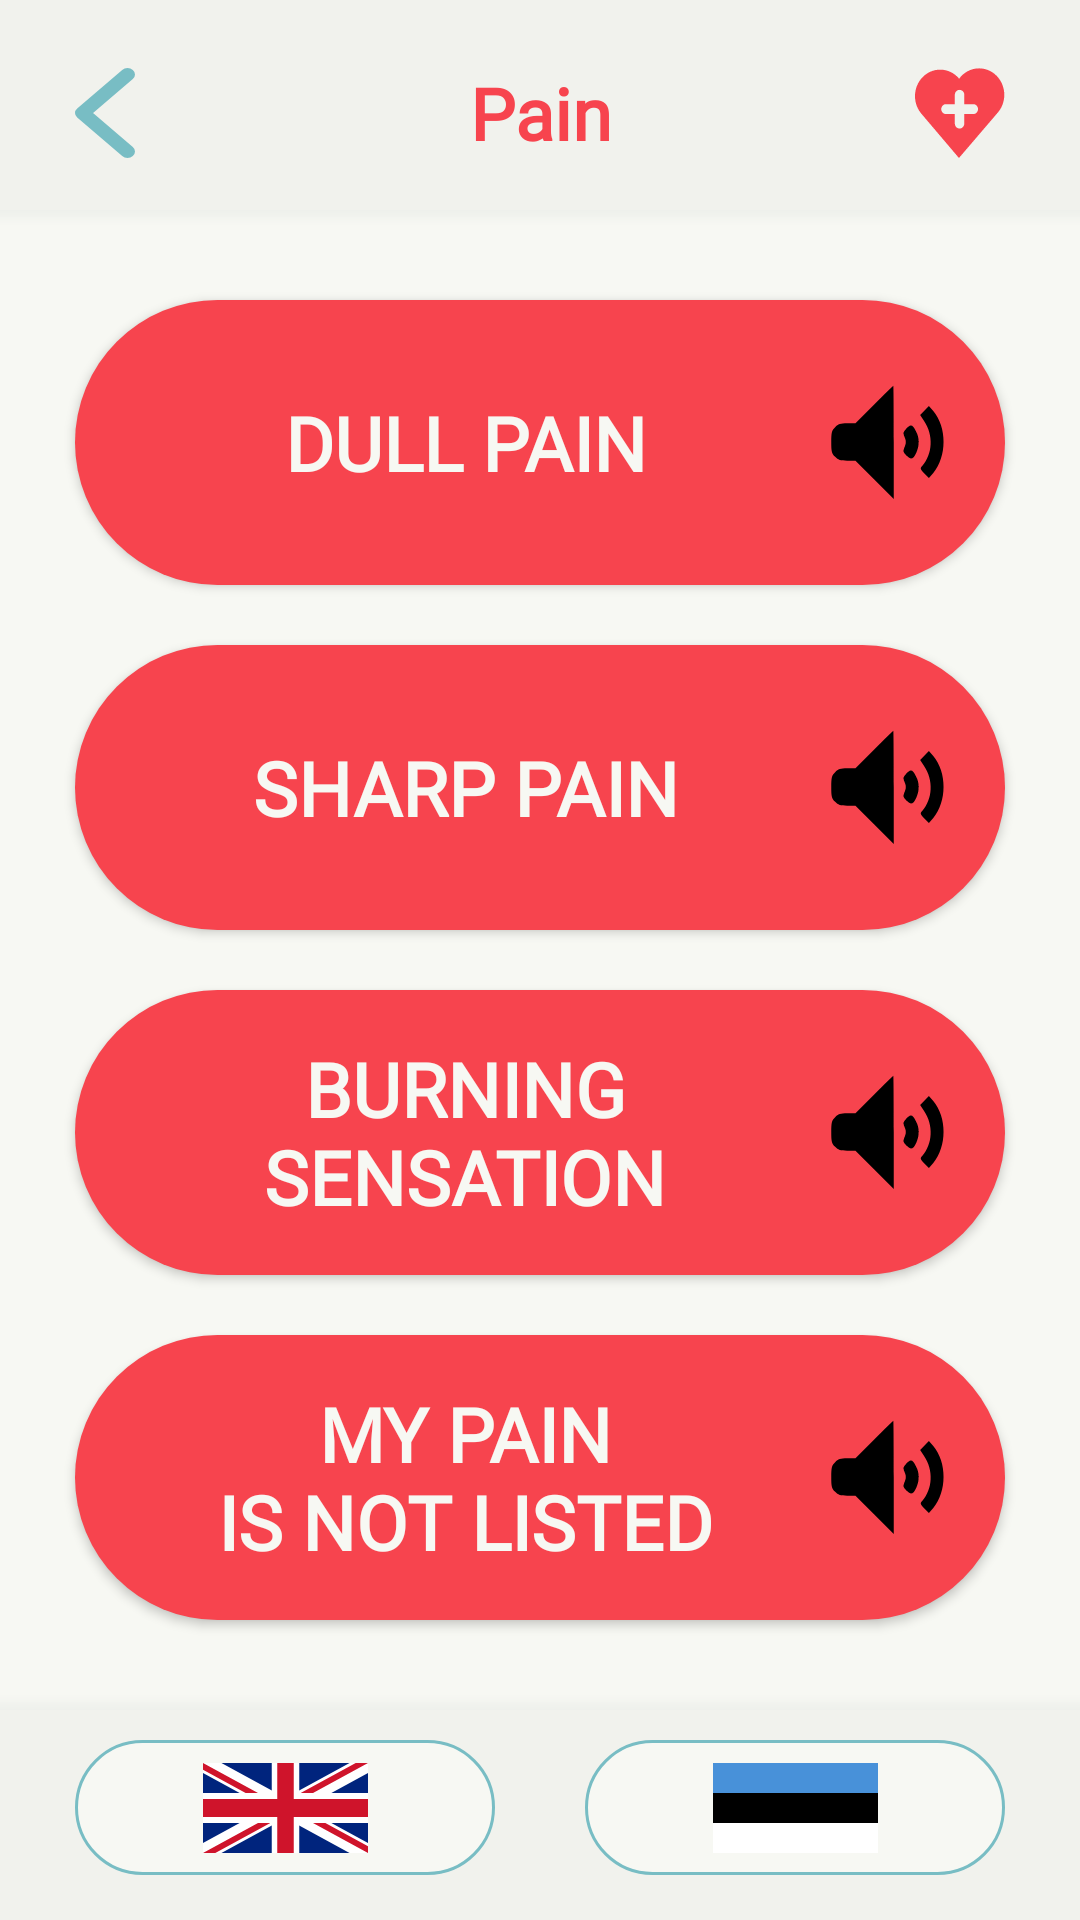

Locate icon controls on the screen. Image size 1080px x 1920px, boxes as Rect(x1, y1, x2, y2).
arrow back: Rect(75, 68, 135, 158)
